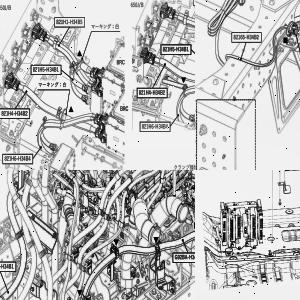PartNumber: (56, 18, 83, 26), (32, 66, 60, 73), (162, 46, 190, 53), (4, 155, 31, 162), (139, 89, 165, 96), (2, 110, 28, 117), (233, 34, 259, 41), (142, 123, 169, 129), (174, 254, 195, 259), (0, 263, 14, 269)
